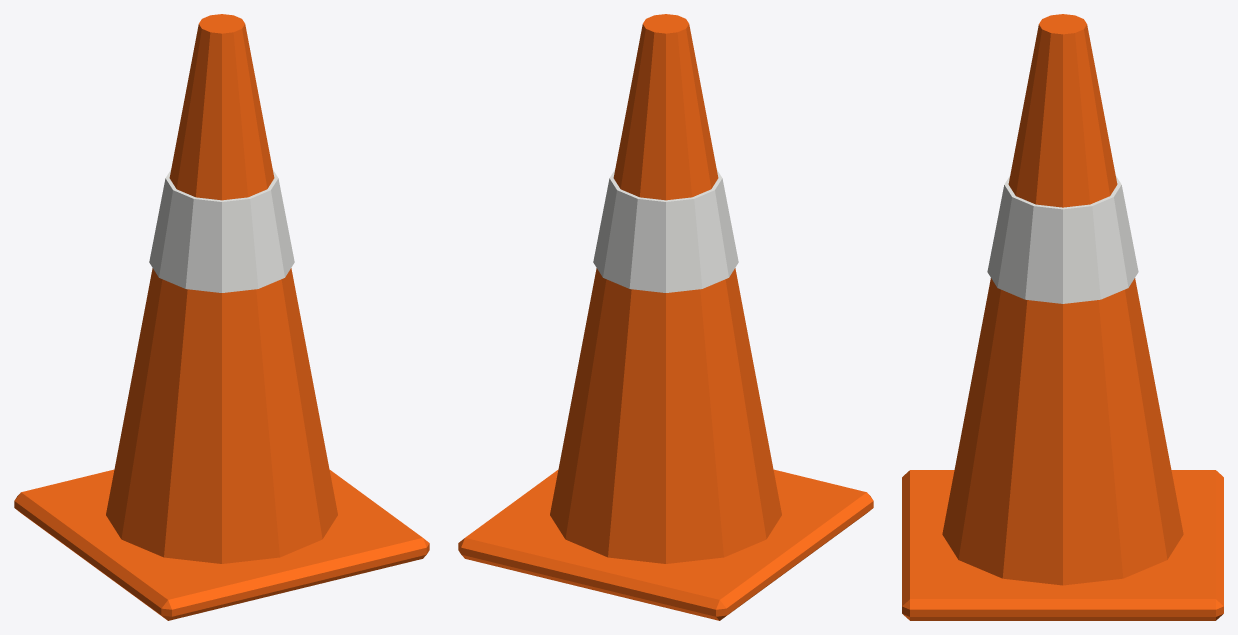
3 views of the same model, side by side, from view 1: azimuth 30°, elevation 25°; view 2: azimuth 150°, elevation 25°; view 3: azimuth 270°, elevation 25° (orthographic). The views are drawn at different scales.
Parts seen in each view (by area): view 1: cone_corpo; view 2: cone_corpo; view 3: cone_corpo.
Part boxes in pixels (x1,y1,x2,y2): cone_corpo: (14,14,429,620); cone_corpo: (458,14,873,620); cone_corpo: (902,14,1223,620).
Size of the model in its own units: 0.4 by 0.73 by 0.4.
